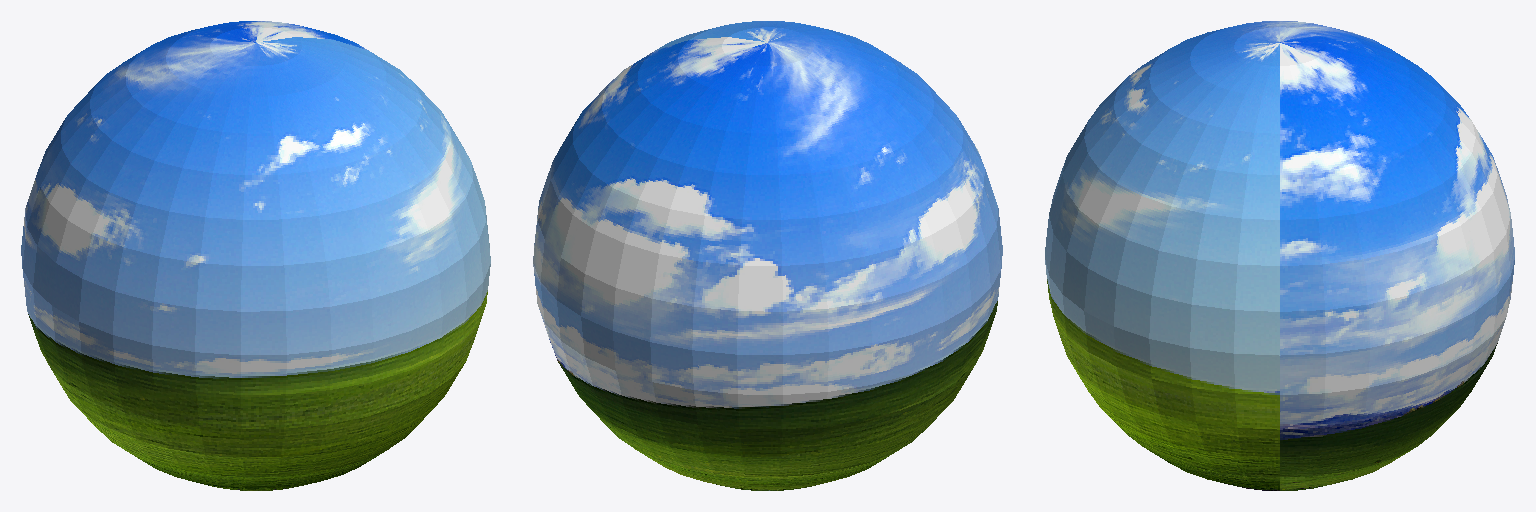
3 renders of one model, left to right at view 1: azimuth 30°, elevation 25°; view 2: azimuth 150°, elevation 25°; view 3: azimuth 270°, elevation 25°, orthographic.
Parts seen in each view (by area): view 1: 球; view 2: 球; view 3: 球.
Part boxes in pixels (x1,y1,x2,y2): 球: (21,21,490,490); 球: (533,21,1002,490); 球: (1045,21,1514,490).
Bounding box in the file's own units: 1003 × 1003 × 1003.
Materials: 1 (1 with a texture image).